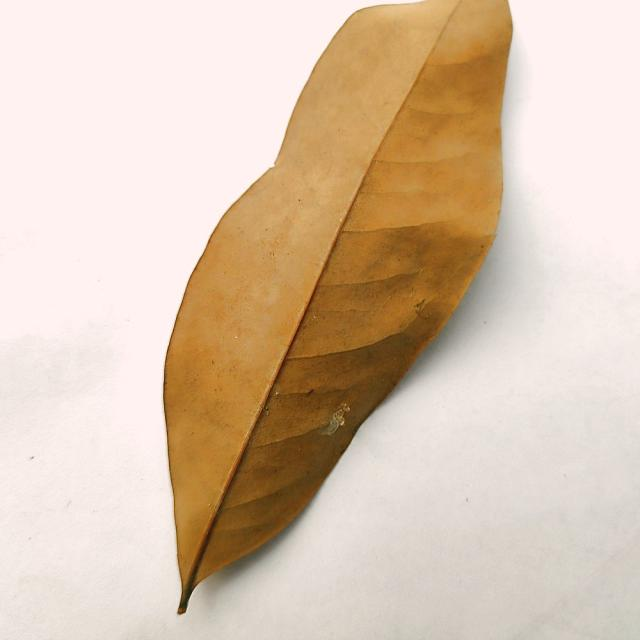Dry_Leaf-Lychee: (162, 0, 515, 611)
